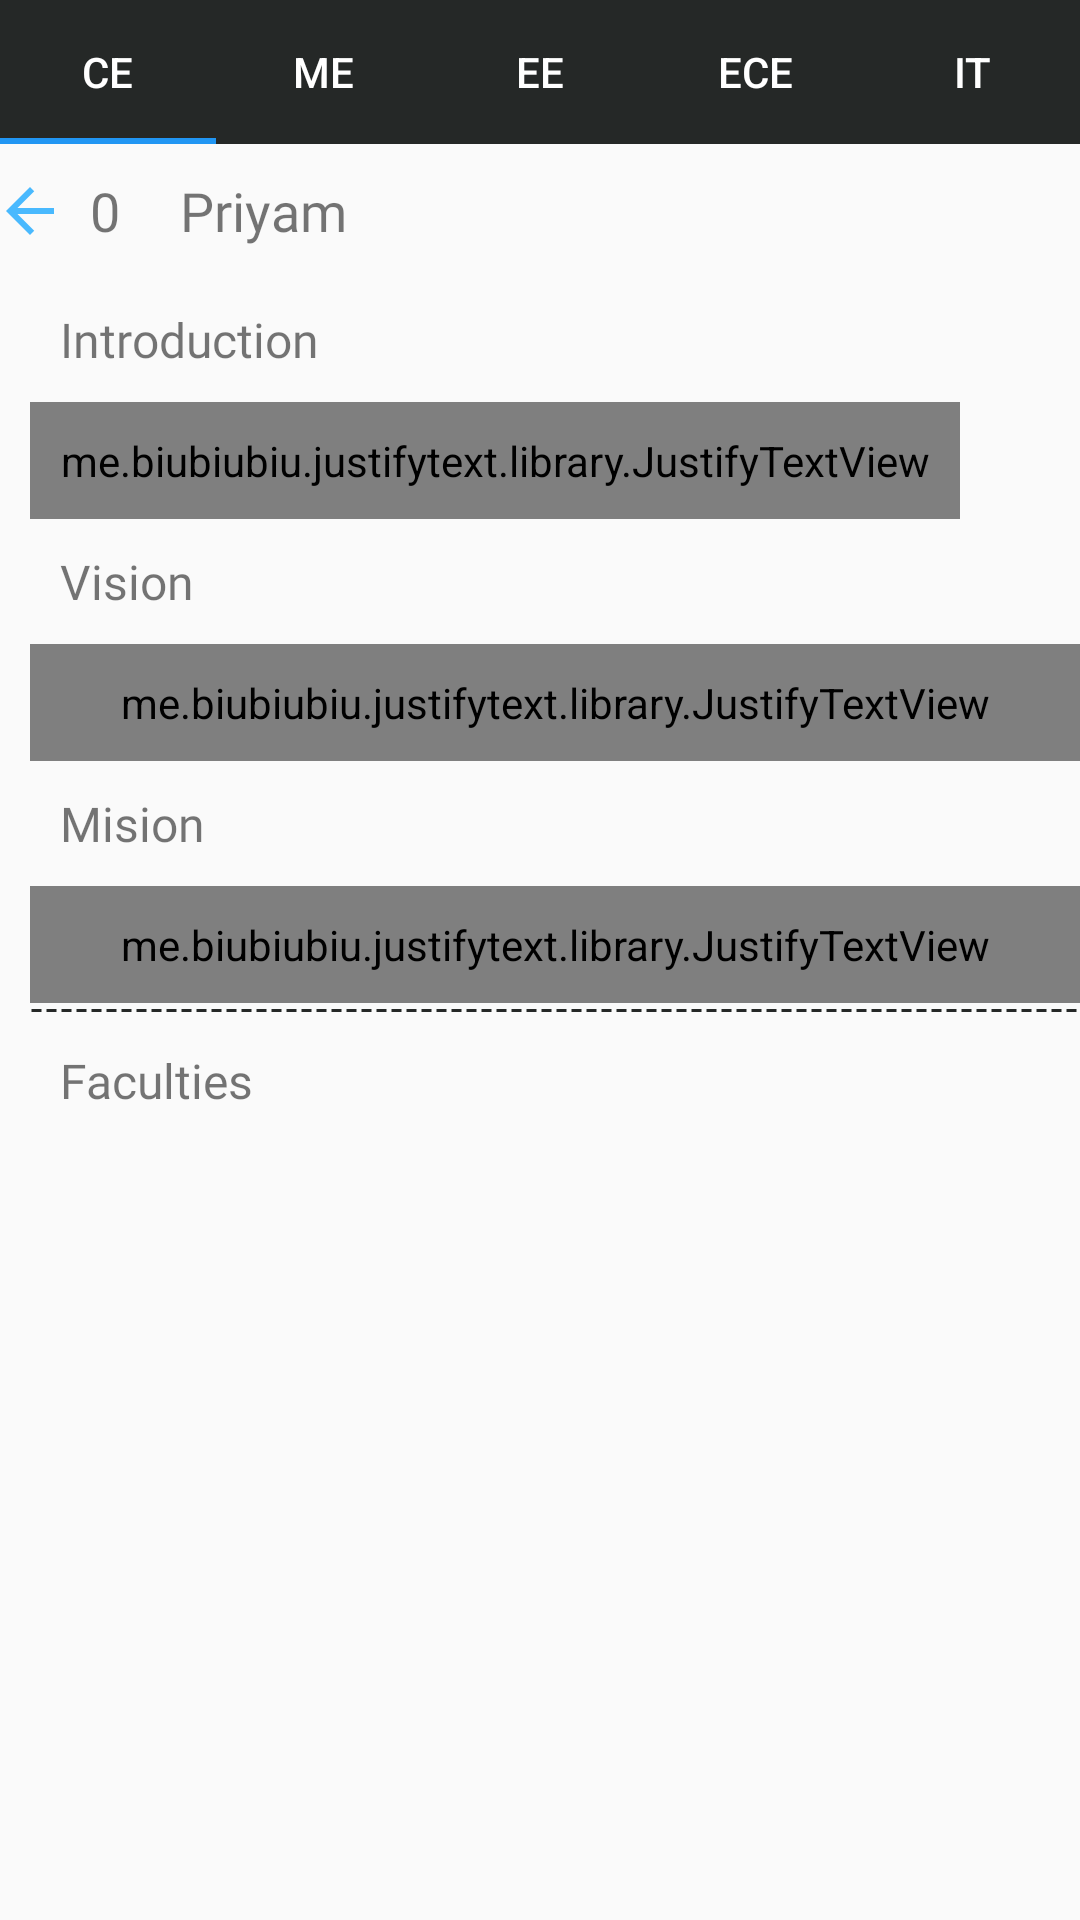

Named icons in this screenshot (1080×1920) and their bounding boxes, (x1, y1, x2, y2):
back arrow: (6, 187, 54, 235)
